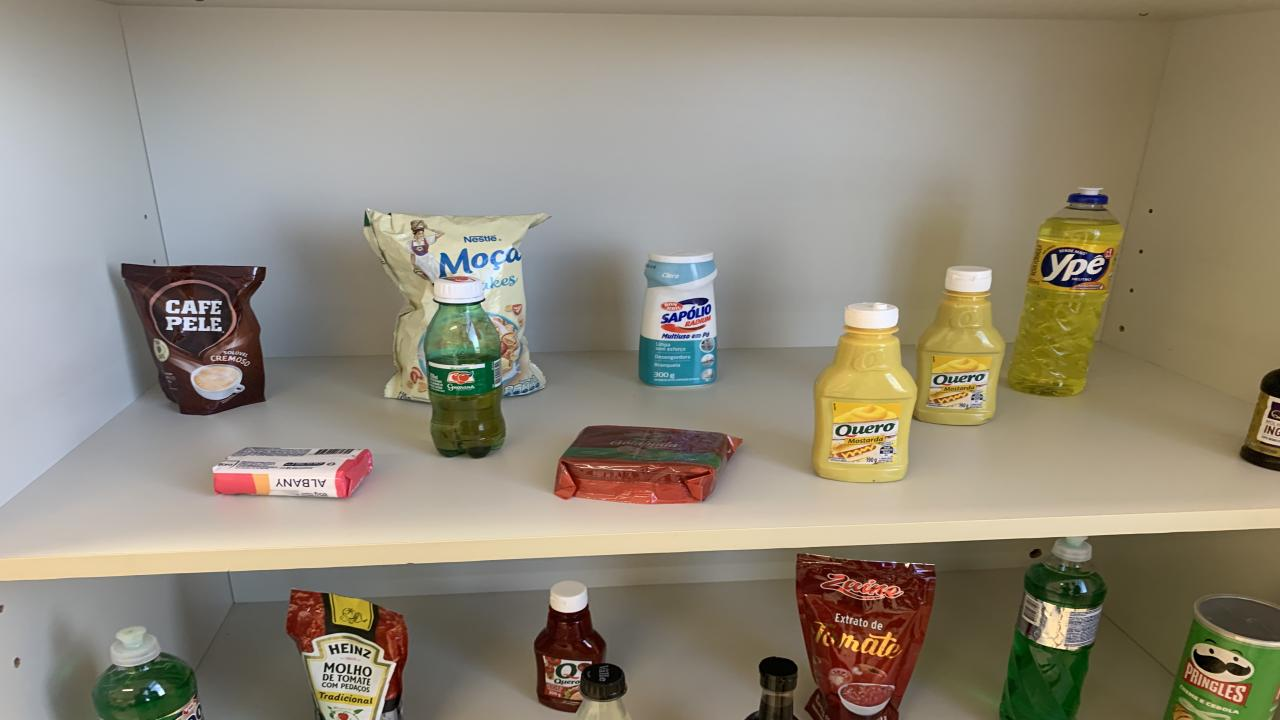Cleaner-Cleanup_Items: (640, 251, 718, 388)
Coffee-Pantry_Items: (122, 264, 265, 414)
Detergent-Cleanup_Items: (1008, 188, 1122, 396), (1000, 536, 1108, 718), (92, 626, 202, 720)
English_Sauce-Pantry_Items: (1240, 369, 1280, 471), (748, 656, 798, 720)
Flakes-Snacks: (362, 210, 550, 401)
Guarana-Drinks: (422, 276, 505, 458)
Guava-Snacks: (555, 426, 742, 504)
Ketchup-Pantry_Items: (535, 579, 605, 712)
Mustard-Pantry_Items: (812, 302, 918, 482), (915, 266, 1005, 426)
Pringles-Snacks: (1165, 594, 1280, 720)
Soap-Cleanup_Items: (212, 448, 372, 497)
Soda-Drinks: (575, 664, 630, 720)
Tomato_Sauce-Pantry_Items: (795, 553, 935, 720), (288, 589, 408, 720)
